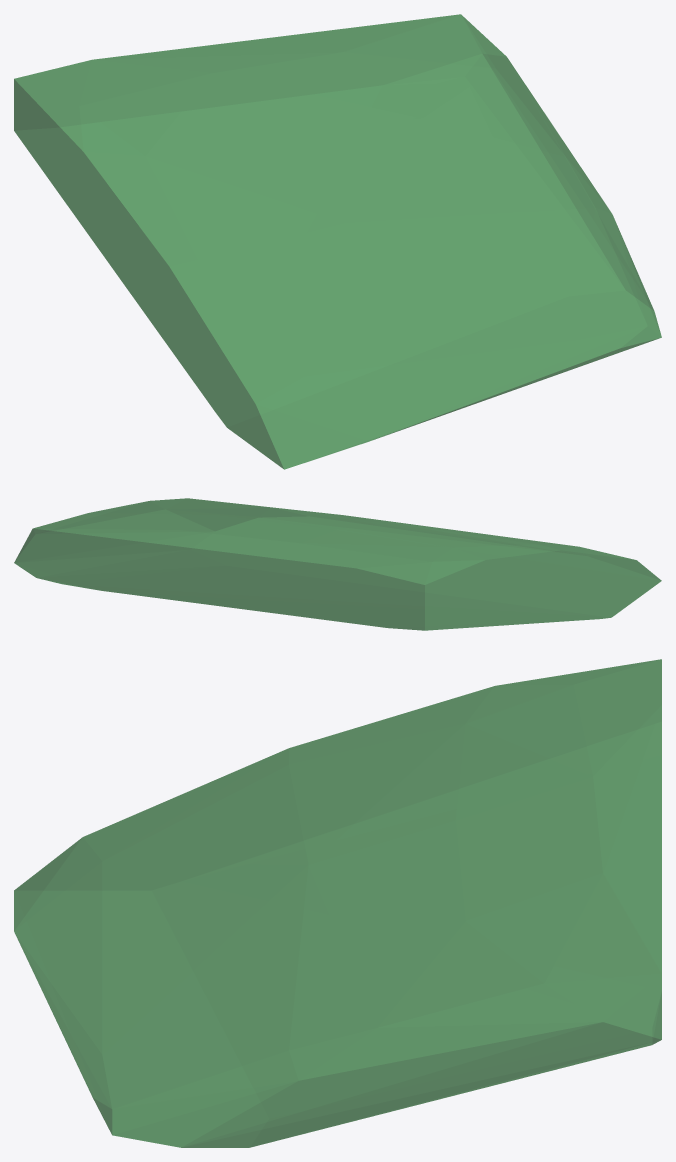
3 views of the same model, one above another, from view 1: azimuth 30°, elevation 25°; view 2: azimuth 150°, elevation 25°; view 3: azimuth 270°, elevation 25° (orthographic). The views are drawn at different scales.
Parts seen in each view (by area): view 1: Shape_IndexedFaceSet.003_Shape_IndexedFaceSet.9006; view 2: Shape_IndexedFaceSet.003_Shape_IndexedFaceSet.9006; view 3: Shape_IndexedFaceSet.003_Shape_IndexedFaceSet.9006.
Boxes of the visible parts, left/top/right/bottom form: Shape_IndexedFaceSet.003_Shape_IndexedFaceSet.9006: left=14, top=14, right=661, bottom=469; Shape_IndexedFaceSet.003_Shape_IndexedFaceSet.9006: left=14, top=498, right=661, bottom=630; Shape_IndexedFaceSet.003_Shape_IndexedFaceSet.9006: left=14, top=659, right=661, bottom=1147.
Size of the model in its own units: 0.0263 by 0.0104 by 0.0263.
